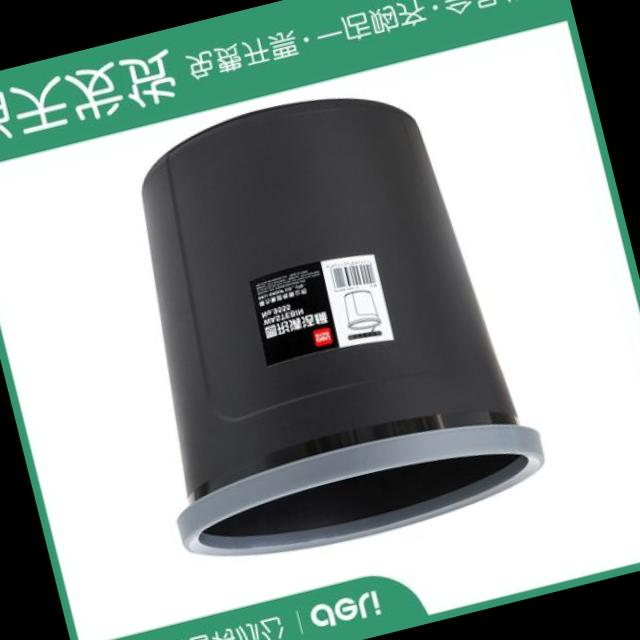dustbin: (80, 55, 566, 588)
